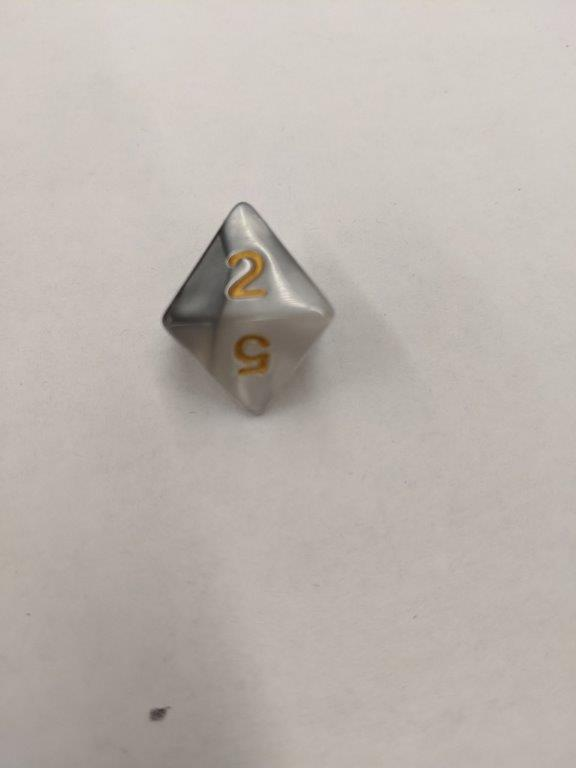d8-2: (162, 201, 335, 415)
